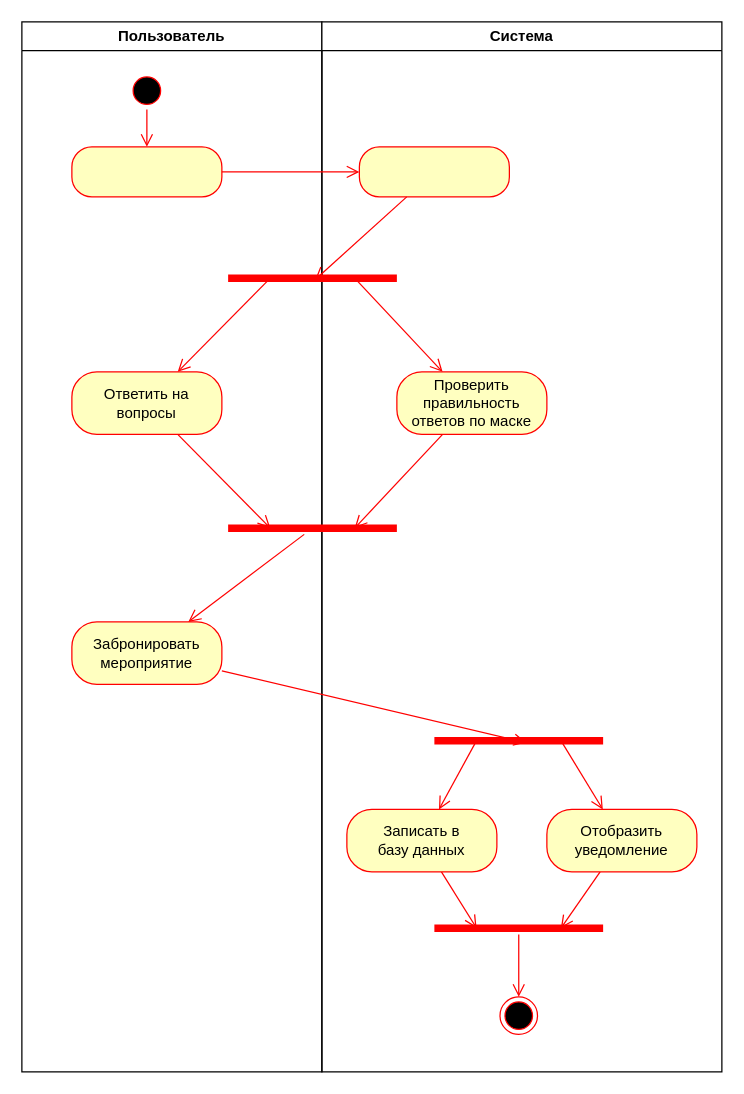
The diagram is 744 pixels wide and 1094 high, and some of its shapes have lost their labels. The centre of each missing label's shape, as x and y in pixels:
"Выбрать мероприятие" belongs at point (146, 171).
"Отобразить вопросы" belongs at point (433, 171).
